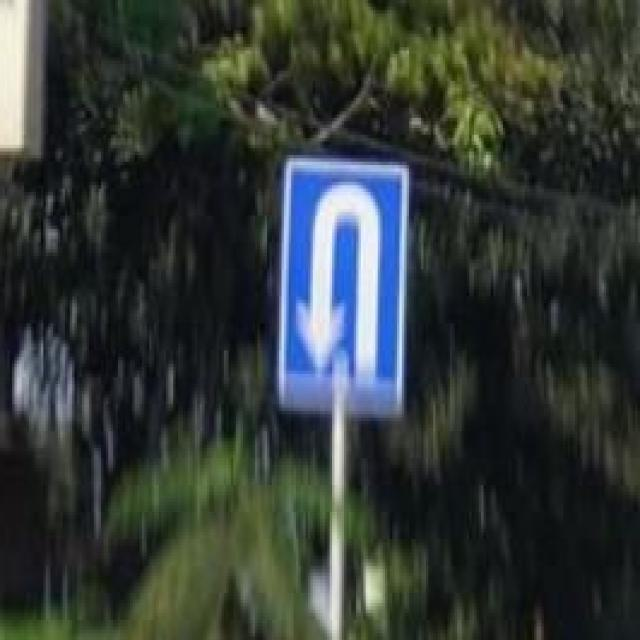U-turn: (289, 165, 400, 401)
